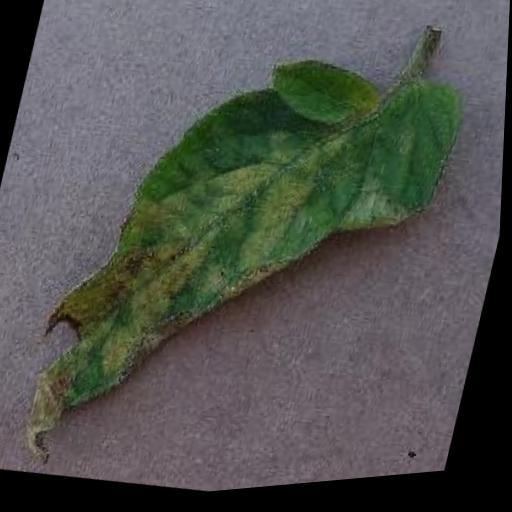Leaf Mold: (14, 16, 474, 510)
